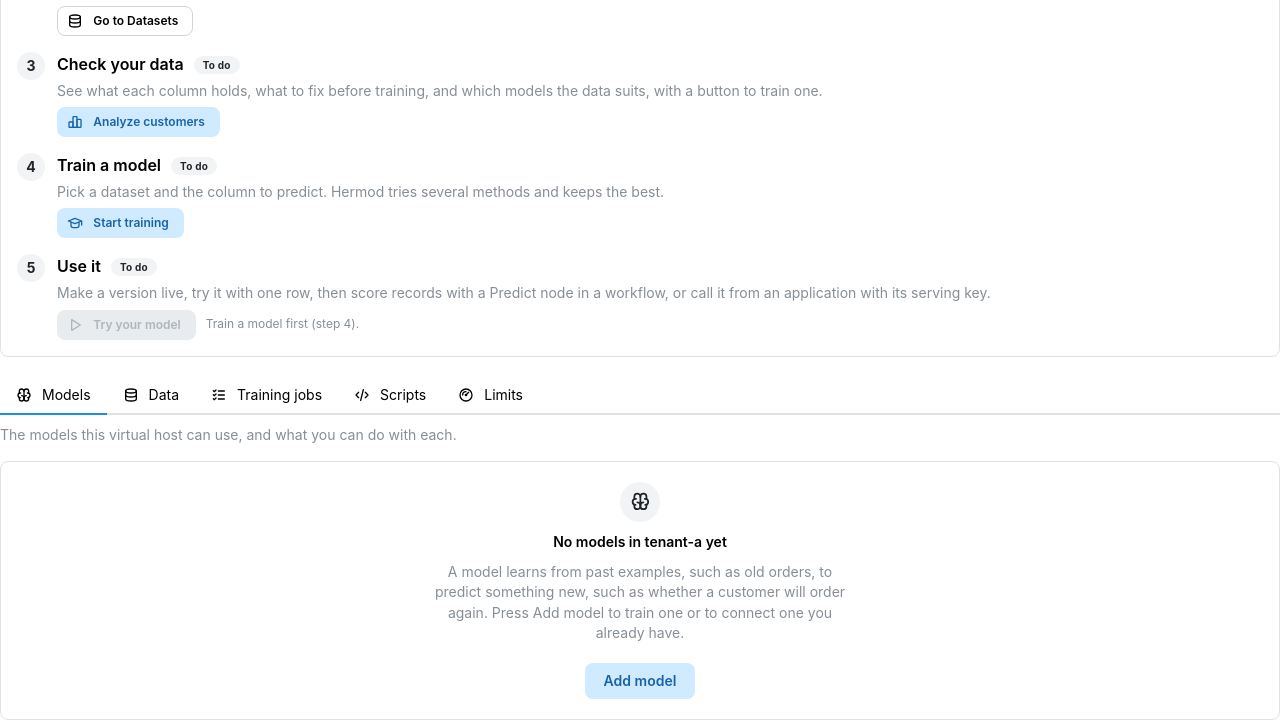
Test: Custom training scripts on the Models page › shows an Editor a script and its versions, read-only
(page scrolled)
Step 1. Click the tab "Scripts" → (390, 396), box [338,376,442,414]
(page scrolled)
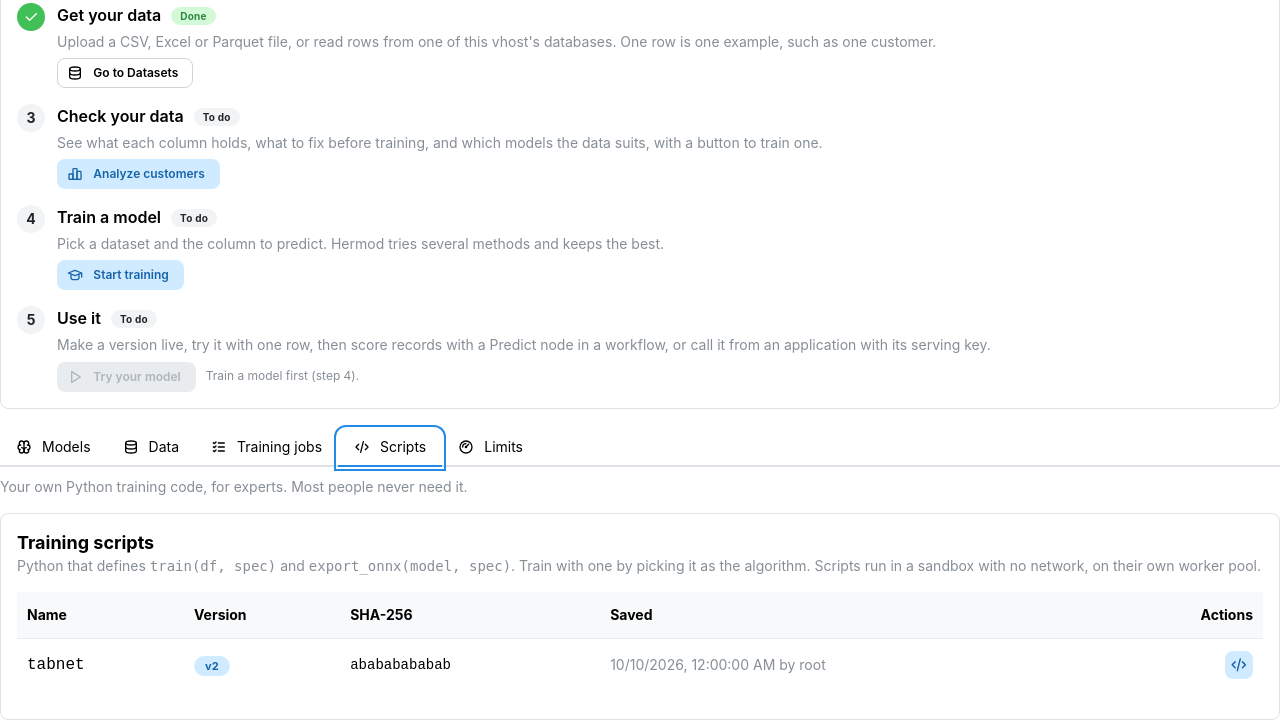
Step 2. Click the button named "Open script tabnet" → (1239, 665), box [1225,651,1253,679]
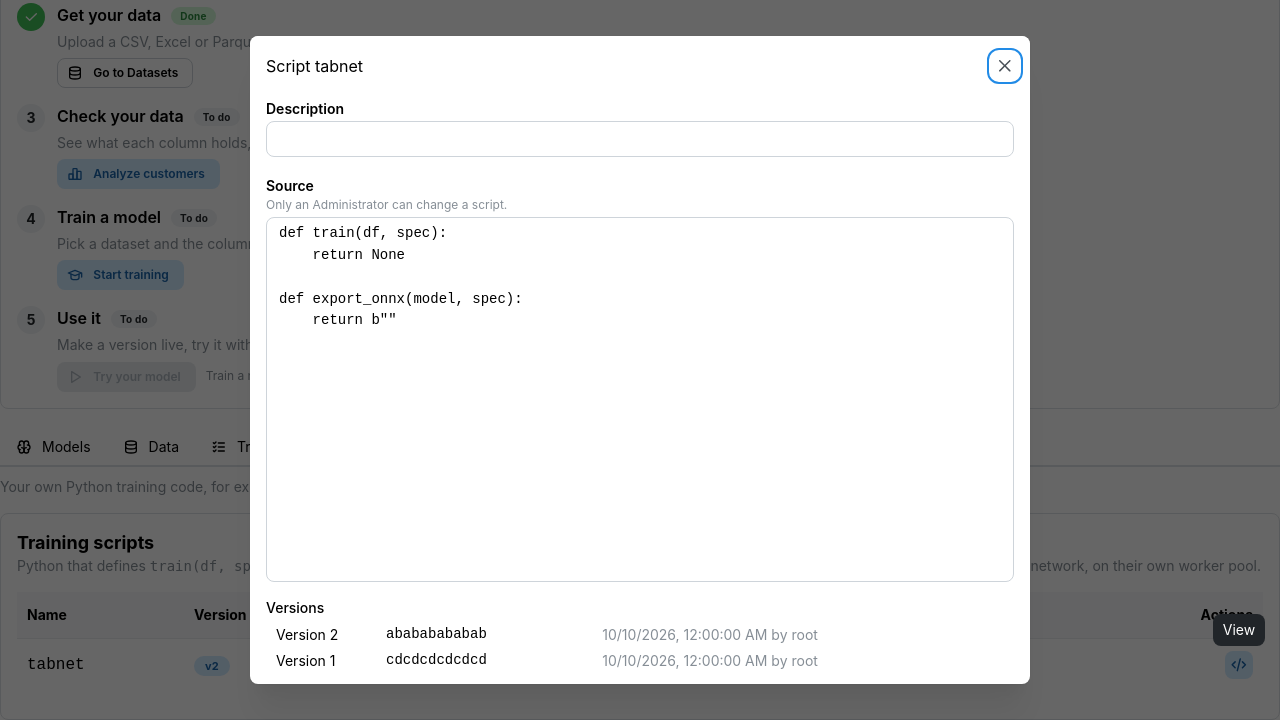
Check: the text "Version 1" is shown, box [266,648,376,674]
